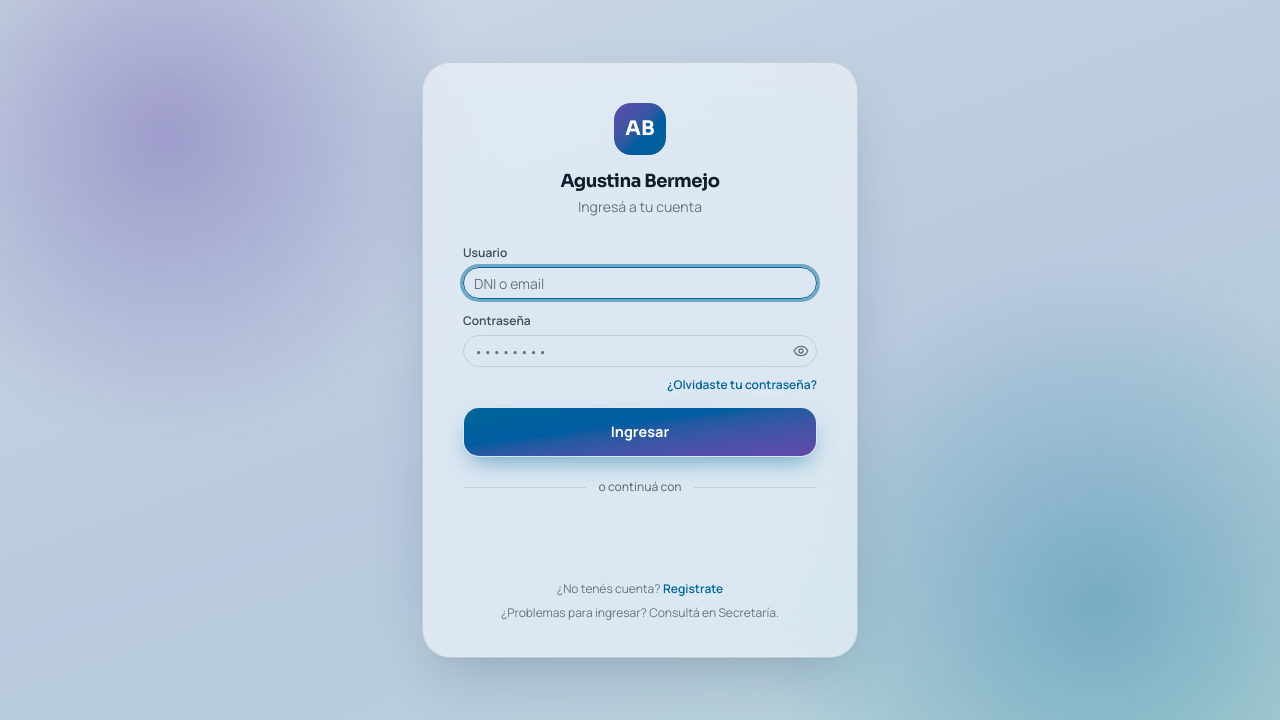
Scenario: flujo de login end-to-end › un Preceptor logueado que entra a /director/aprobaciones es redirigido a No autorizado
The image size is (1280, 720).
Type "prueba.login" into the field with placeholder "DNI o email" at (640, 283), box [463,267,817,299]
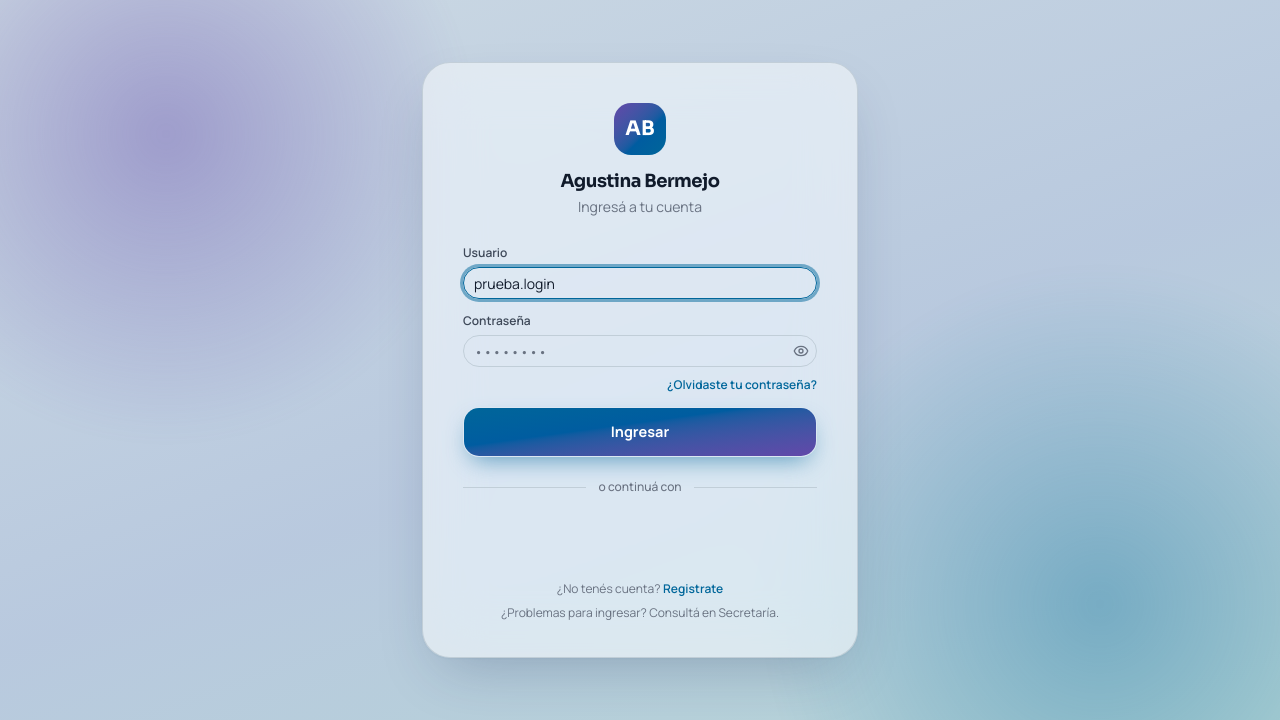
Type "Test1234" into the password field with placeholder "••••••••" at (640, 351), box [463,335,817,367]
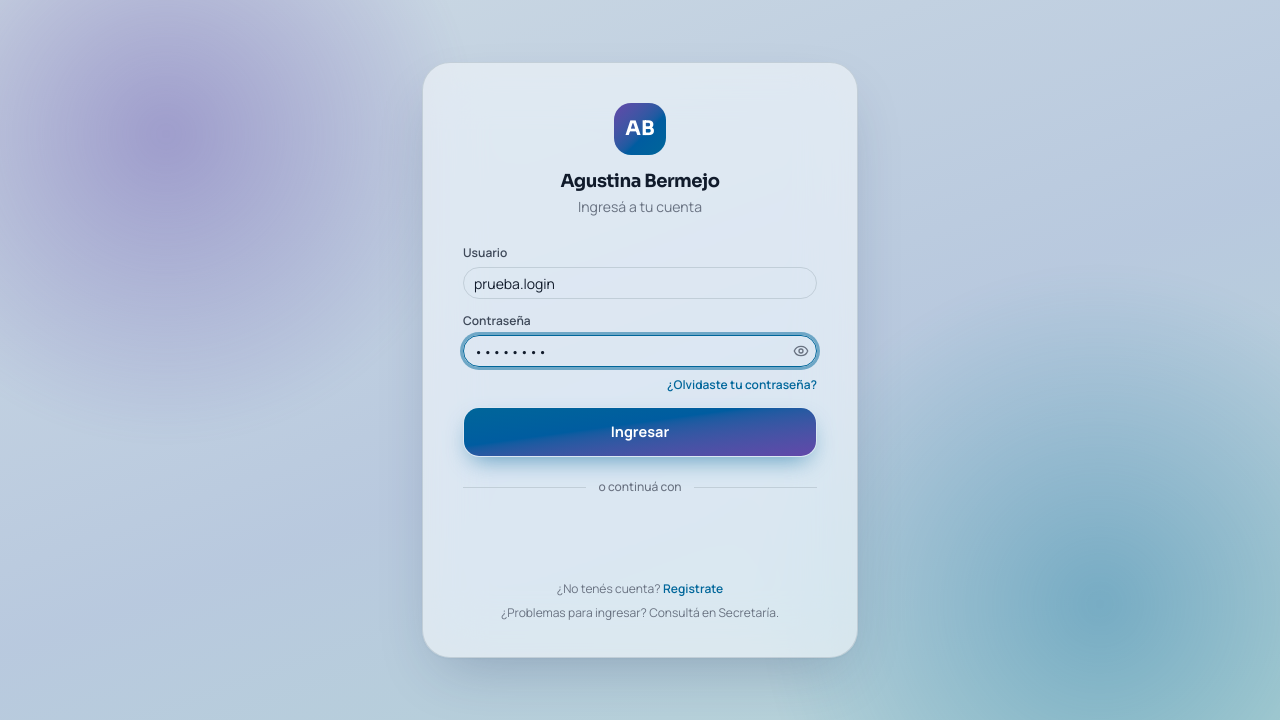
Click the button "Ingresar" at (640, 432), box [463,407,817,457]
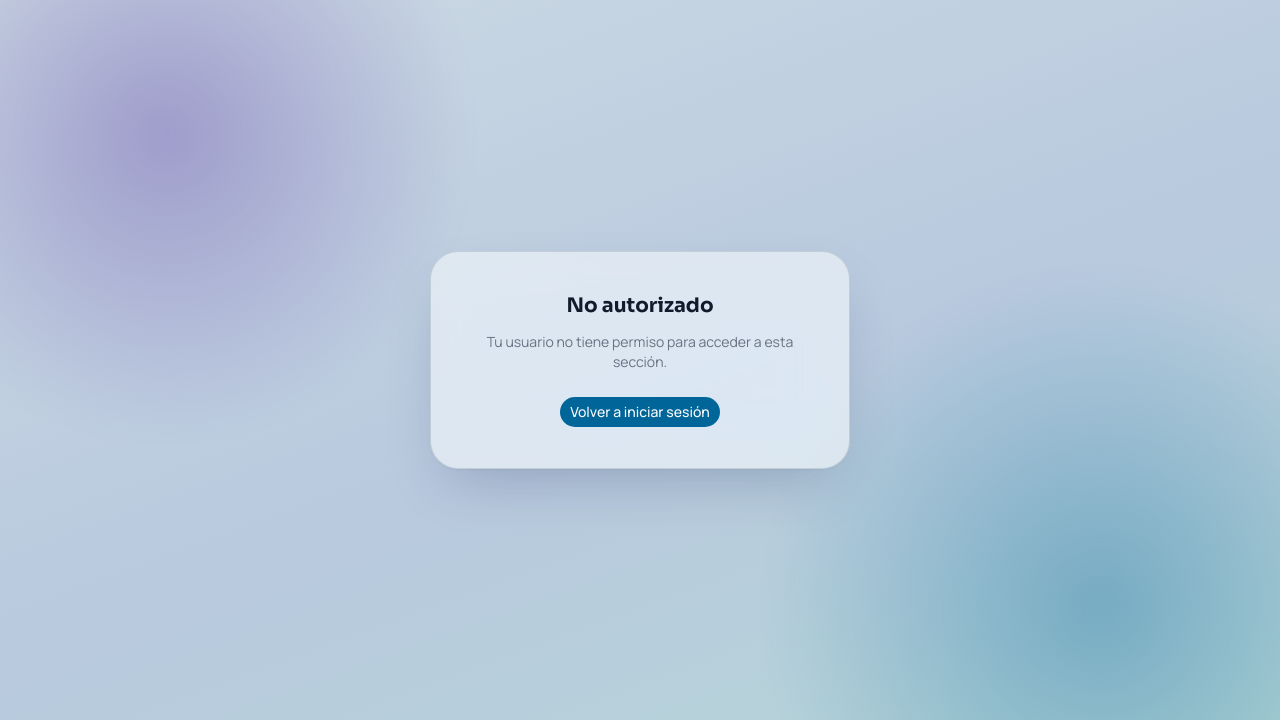
Now the text "No autorizado" is shown, box [566,292,714,320]
